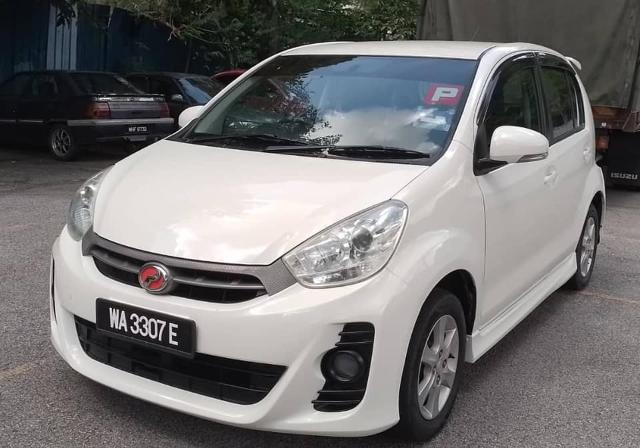License_Plate: (99, 298, 189, 358)
car: (36, 35, 638, 448)
